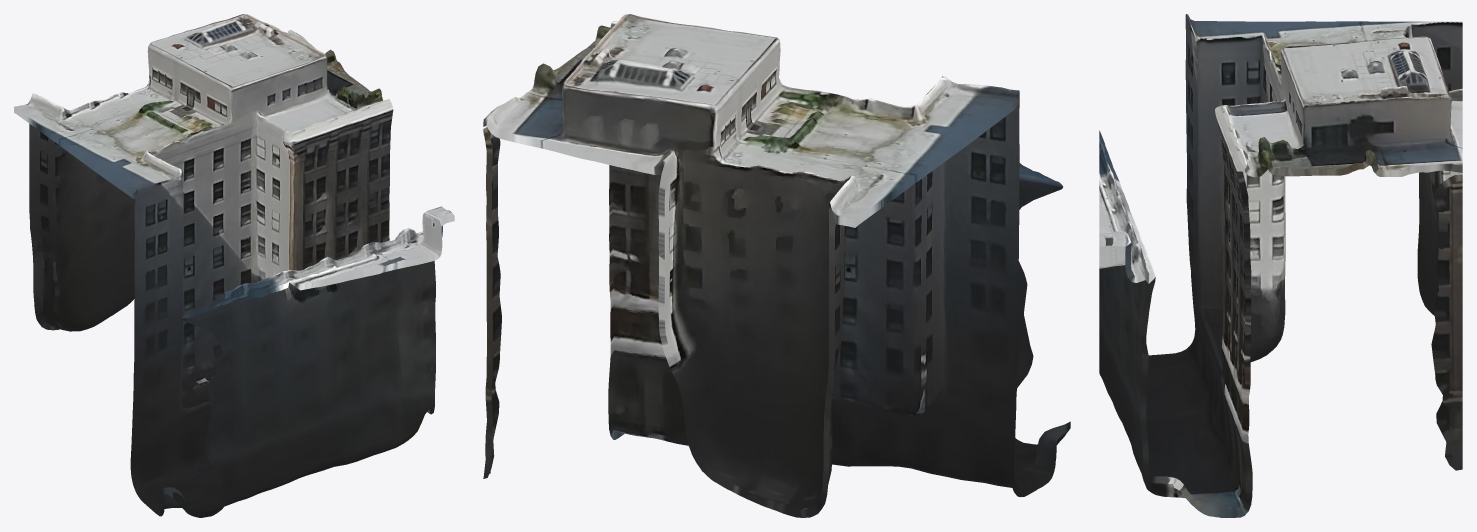
Rendered from z20-167766-405234-h0-yup-uvflip-v3-world.glb.
The picture shows the model from 3 angles, left to right: view 1: azimuth 30°, elevation 25°; view 2: azimuth 150°, elevation 25°; view 3: azimuth 270°, elevation 25°; orthographic projection. The views are drawn at different scales.
Bounding box in the file's own units: 30.2 × 37.36 × 30.32.
Materials: 1 (1 with a texture image).
